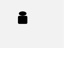human: (16, 8, 29, 25)
